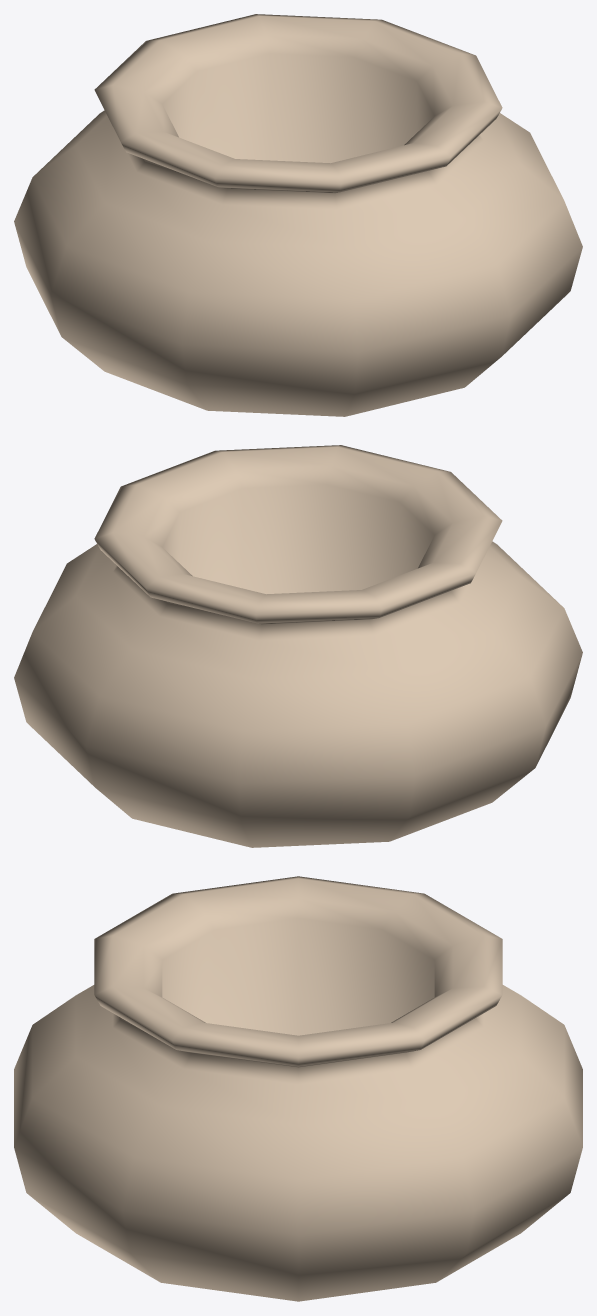
Rendered from pot4.fbx.
3 views of the same model, one above another, from view 1: azimuth 30°, elevation 25°; view 2: azimuth 150°, elevation 25°; view 3: azimuth 270°, elevation 25° (orthographic). The views are drawn at different scales.
Visible parts, largest first — view 1: pot4_small_jar; view 2: pot4_small_jar; view 3: pot4_small_jar.
Boxes of the visible parts, <box> form: pot4_small_jar: <box>14,14,582,416</box>; pot4_small_jar: <box>14,445,582,847</box>; pot4_small_jar: <box>14,876,582,1301</box>.
Size of the model in its own units: 92 by 47 by 87.5.
